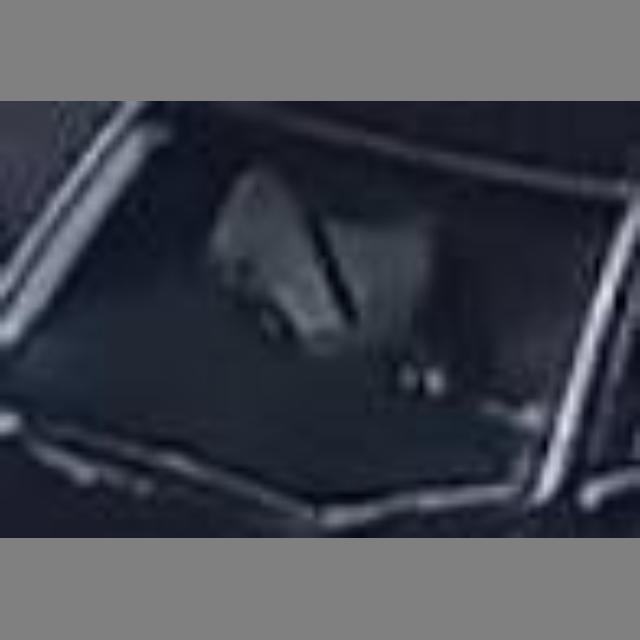pakai: (209, 166, 451, 369)
